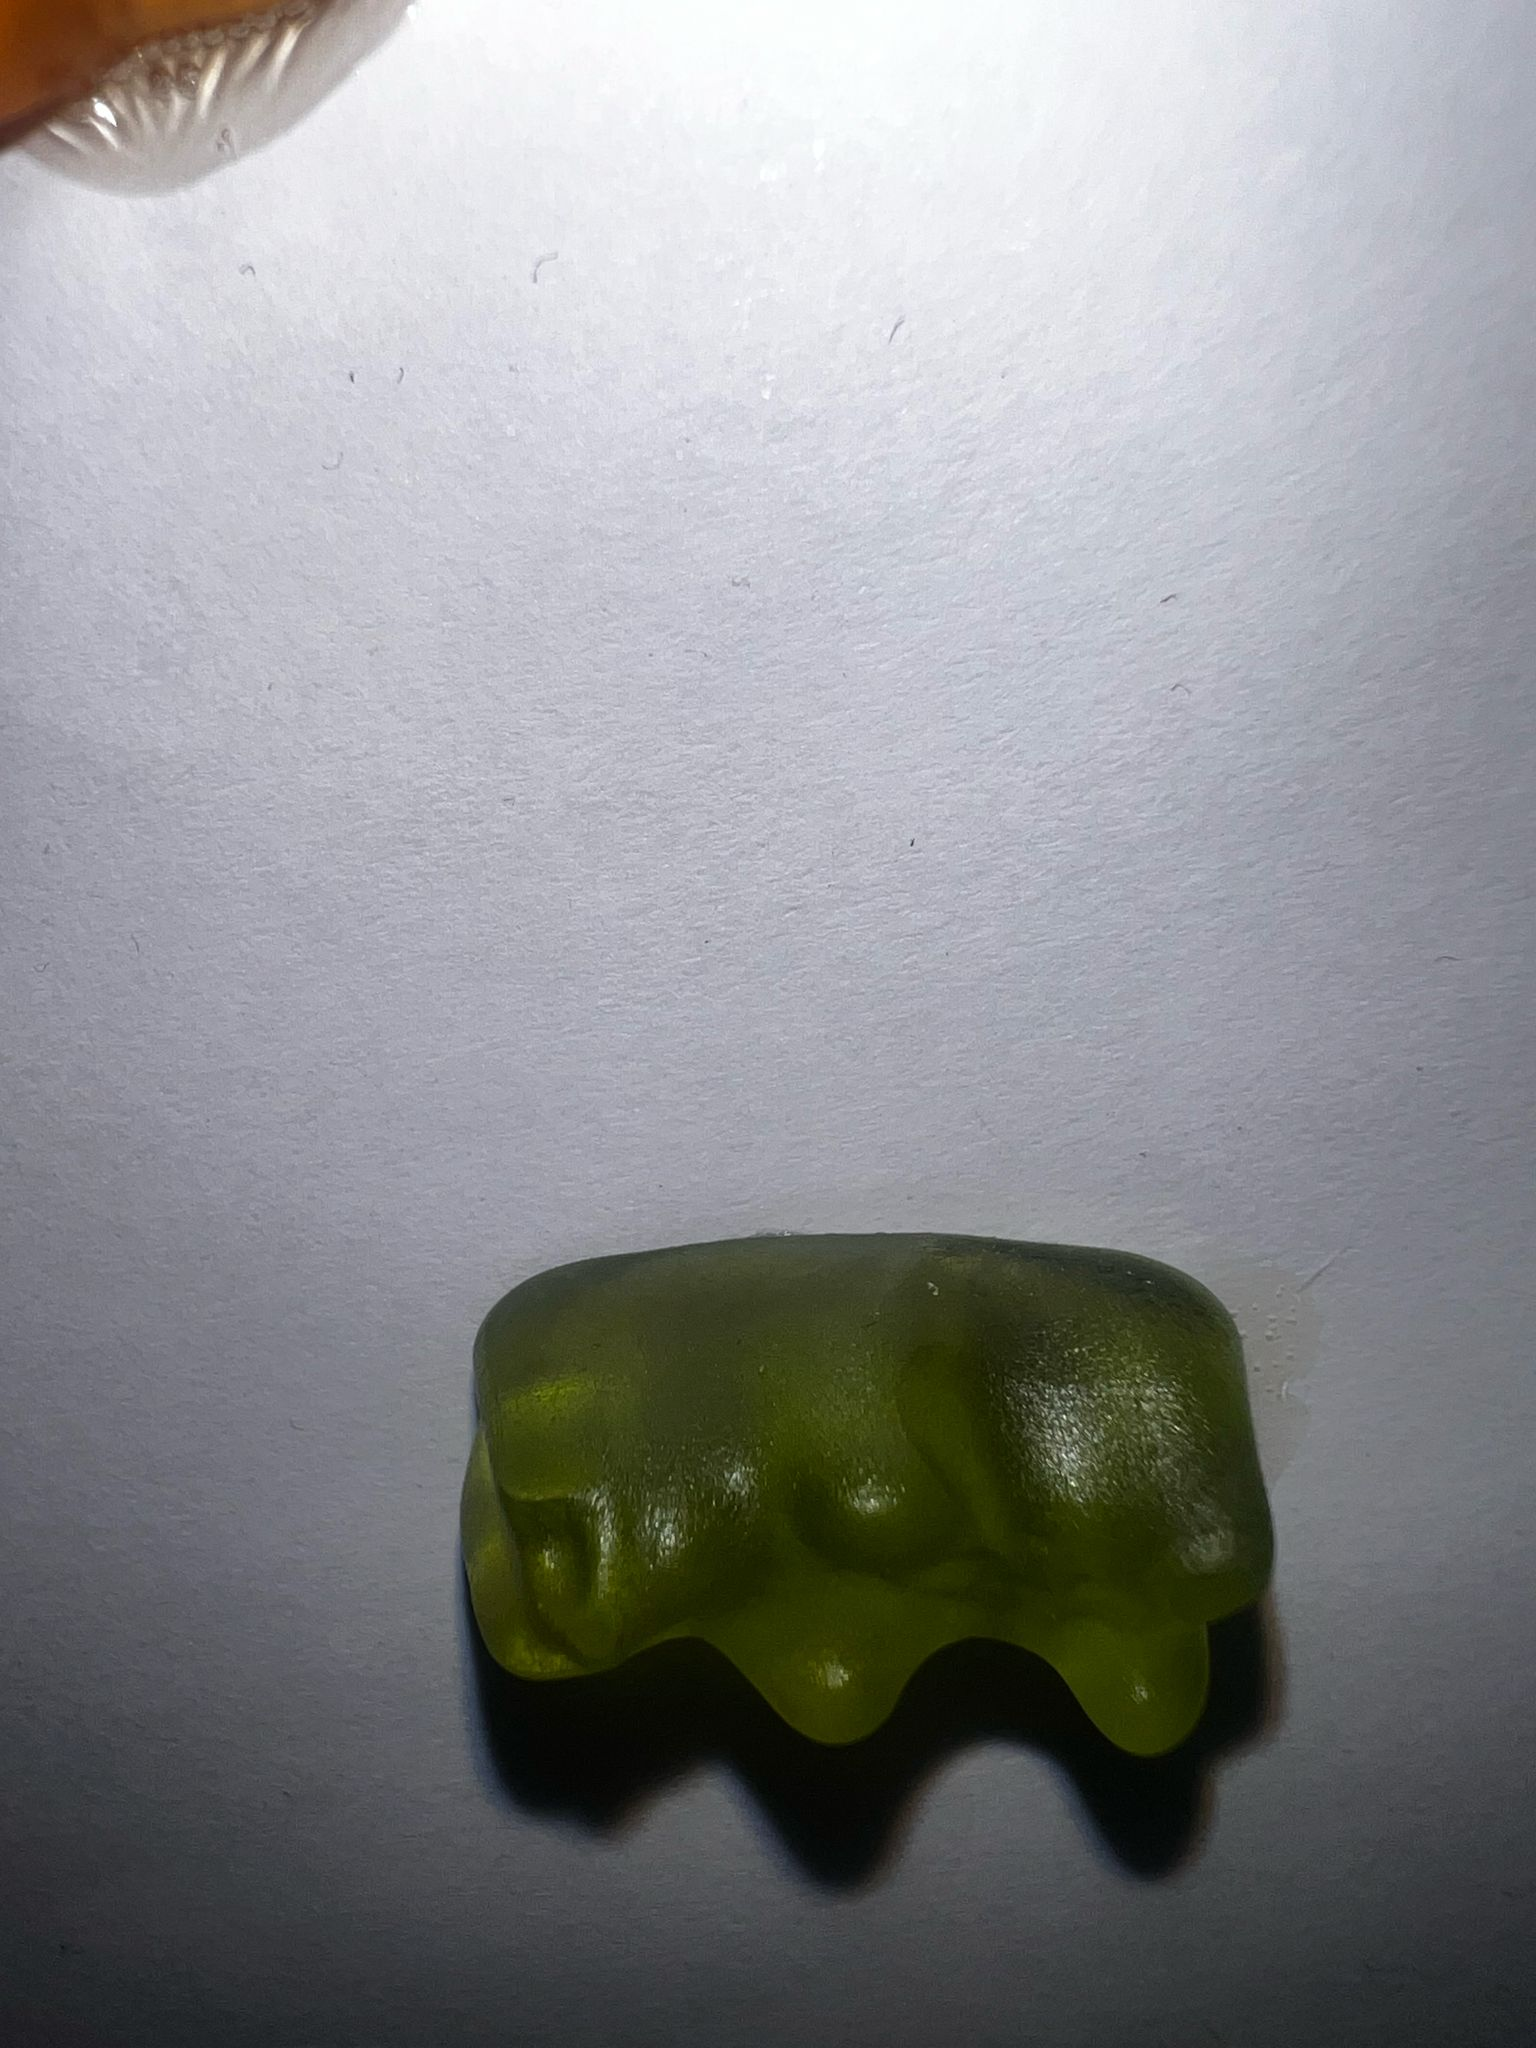gummybear: (437, 1206, 1302, 1787)
